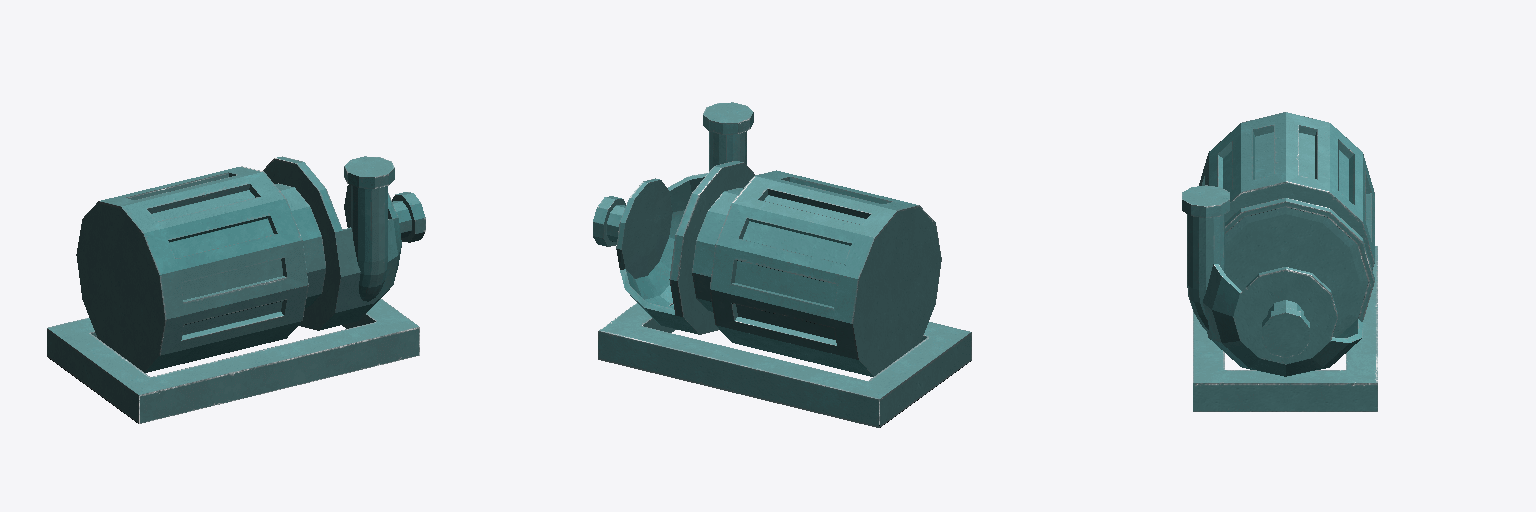
3 views of the same model, side by side, from view 1: azimuth 30°, elevation 25°; view 2: azimuth 150°, elevation 25°; view 3: azimuth 270°, elevation 25° (orthographic).
Visible parts, largest first — view 1: 水泵2_1; view 2: 水泵2_1; view 3: 水泵2_1.
Boxes of the visible parts, box(x1,y1,x2,y2) form: 水泵2_1: box(47, 156, 425, 423); 水泵2_1: box(593, 102, 971, 427); 水泵2_1: box(1182, 112, 1377, 411).
Bounding box in the file's own units: 58.23 × 33.77 × 30.8.
Materials: 1 (1 with a texture image).